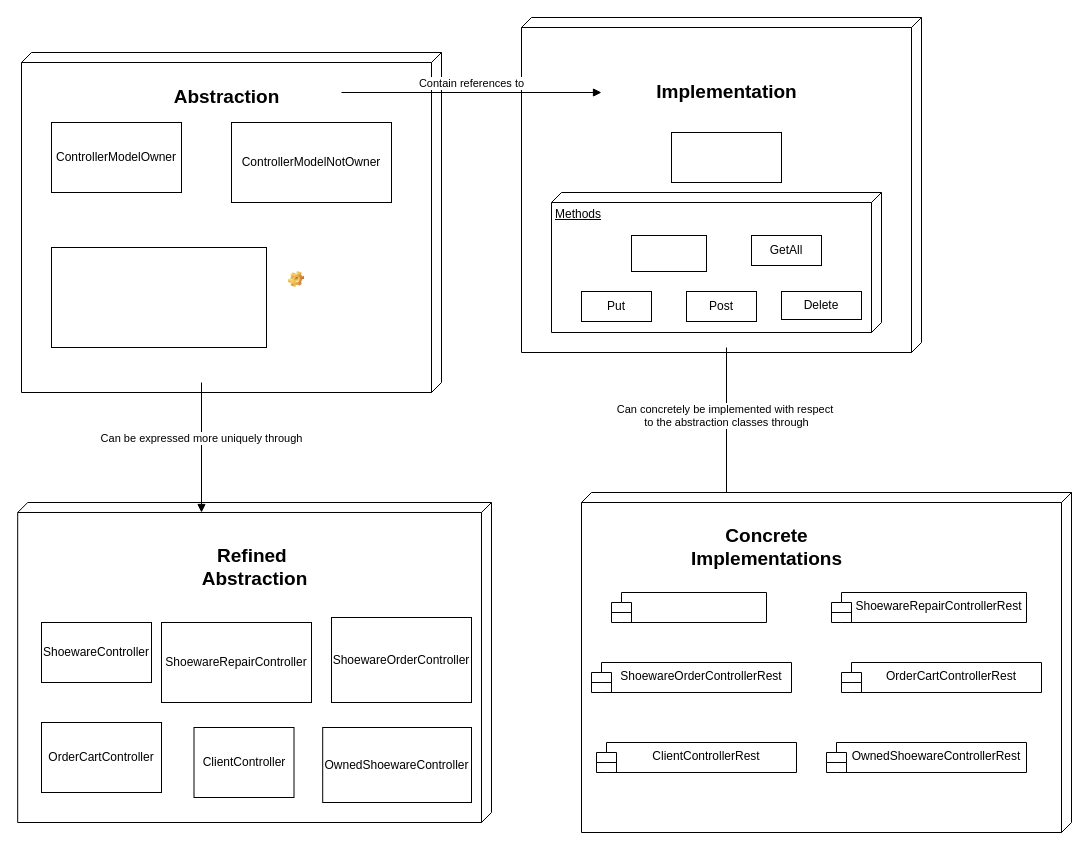
Some shapes in this 1089 by 850 pixel diagram are drawn without their labels. The centre of each missing label's shape, as x and y in pixels:
attribute: restOperation interface reference: point 351,279
ControllerModelOwnerWithArray: point 158,297
Get: point 668,253
ShoewareControllerRest: point 688,607
«interface» restOperation: point 726,157
